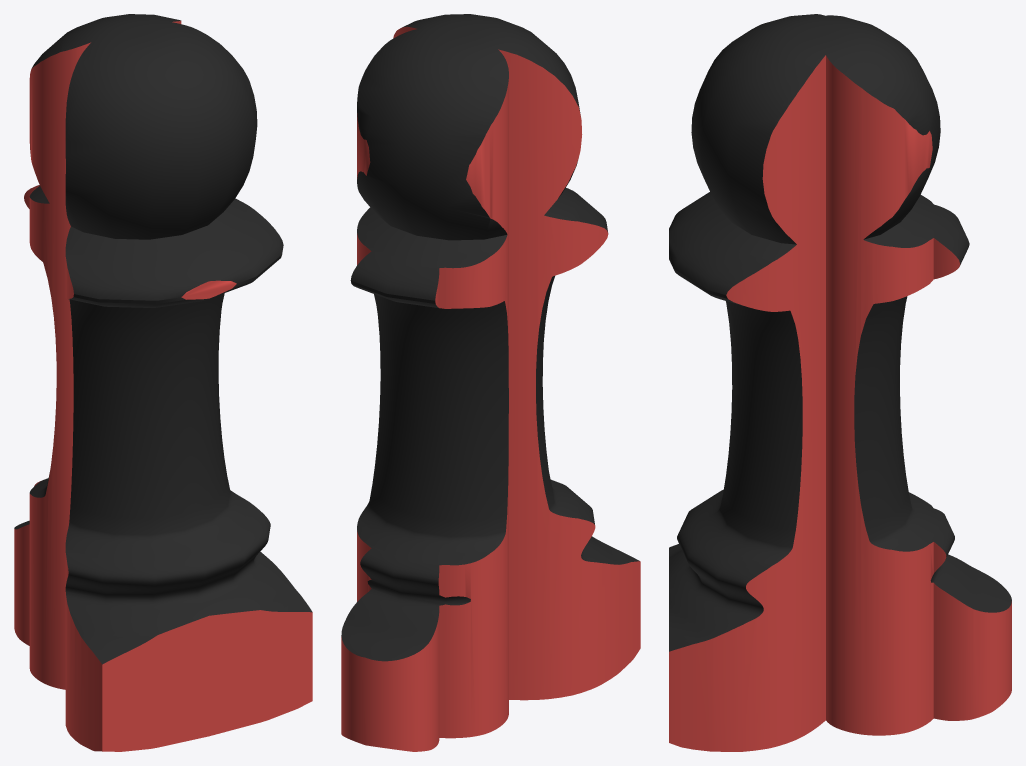
The model's file is Black_Pawn.fbx.
3 renders of one model, left to right at view 1: azimuth 30°, elevation 25°; view 2: azimuth 150°, elevation 25°; view 3: azimuth 270°, elevation 25°, orthographic. The views are drawn at different scales.
Visible parts, largest first — view 1: Black_Pawn; view 2: Black_Pawn; view 3: Black_Pawn.
Boxes of the visible parts, box(x1,y1,x2,y2) form: Black_Pawn: box(14, 14, 312, 751); Black_Pawn: box(341, 14, 640, 751); Black_Pawn: box(669, 14, 1011, 751).
Size of the model in its own units: 29.1 by 39.88 by 86.12.
